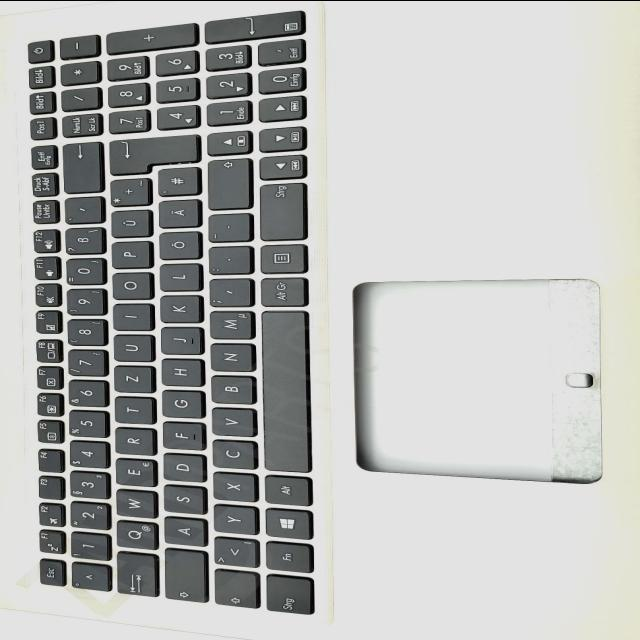0: (64, 257, 104, 285)
1: (68, 532, 110, 560)
2: (69, 501, 109, 530)
3: (68, 470, 109, 499)
4: (68, 440, 109, 468)
5: (68, 410, 108, 438)
6: (66, 379, 107, 407)
7: (66, 349, 106, 376)
8: (66, 318, 106, 346)
9: (65, 288, 105, 316)
a: (161, 516, 207, 547)
accent: (63, 196, 103, 223)
ae: (156, 199, 200, 228)
alt-left: (262, 474, 311, 506)
altgr-right: (259, 277, 307, 308)
b: (209, 374, 255, 404)
c: (210, 439, 256, 469)
caret: (69, 563, 110, 591)
comma: (206, 278, 252, 307)
d: (160, 453, 206, 483)
del: (60, 142, 101, 194)
e: (113, 458, 155, 486)
enter: (105, 136, 196, 176)
f: (159, 421, 205, 450)
g: (159, 390, 204, 418)
h: (159, 358, 204, 386)
hash: (155, 166, 199, 196)
i: (111, 303, 153, 331)
j: (157, 327, 203, 355)
k: (158, 295, 202, 323)
keyboard: (7, 1, 329, 621)
l: (157, 264, 201, 292)
less: (211, 536, 258, 568)
m: (207, 310, 254, 340)
minus: (208, 213, 252, 243)
n: (208, 342, 254, 372)
o: (110, 272, 152, 300)
oe: (156, 231, 200, 259)
p: (110, 241, 152, 269)
plus: (109, 178, 151, 206)
point: (208, 245, 252, 275)
q: (114, 520, 157, 550)
r: (113, 427, 155, 455)
s: (160, 484, 206, 514)
shift-left: (211, 569, 258, 608)
shift-lock: (162, 548, 206, 602)
shift-right: (205, 158, 251, 210)
space: (262, 311, 310, 473)
ss: (63, 227, 104, 255)
strg-left: (263, 575, 313, 615)
strg-right: (258, 180, 306, 240)
t: (113, 396, 155, 424)
tab: (113, 552, 157, 596)
u: (111, 334, 154, 362)
ue: (109, 209, 151, 237)
v: (209, 407, 255, 437)
w: (113, 489, 156, 519)
x: (210, 471, 257, 501)
y: (211, 504, 257, 534)
z: (112, 365, 155, 393)
